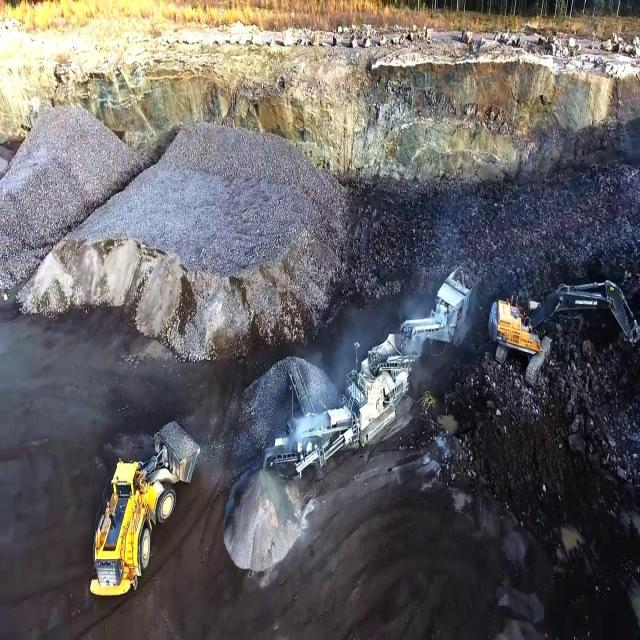buldozerpayloadergrader: (86, 414, 202, 598)
excavator: (486, 278, 640, 387)
